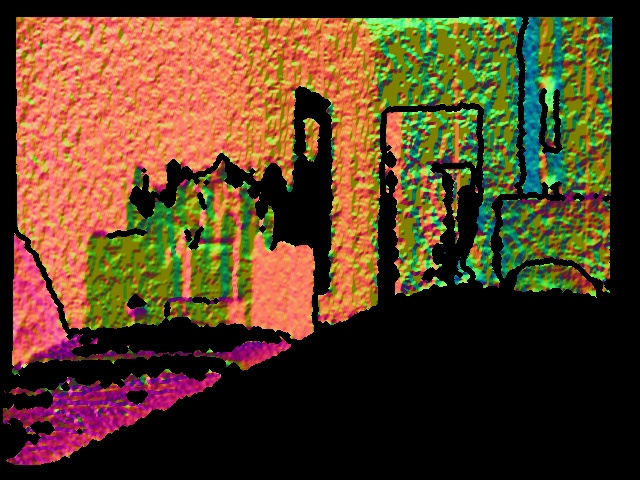station: (167, 239, 244, 329)
